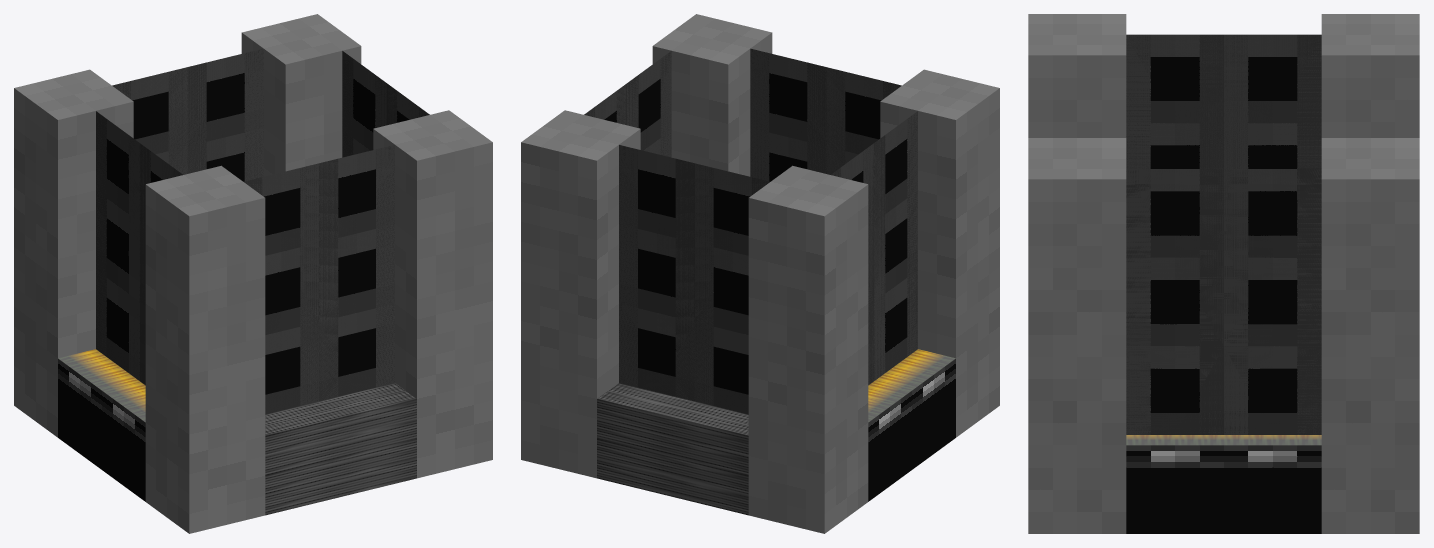
The model's file is conveyor_chute.obj.
3 views of the same model, side by side, from view 1: azimuth 30°, elevation 25°; view 2: azimuth 150°, elevation 25°; view 3: azimuth 270°, elevation 25° (orthographic). The views are drawn at different scales.
Visible parts, largest first — view 1: o4, o3, r3, o1, cvr2, r1, r4, o2, cvr, r2; view 2: o1, o2, r1, o4, cvr1, r3, r4, o3, cvr, r2; view 3: r2, o2, o3, r4, cvr, o1, o4.
Boxes of the visible parts, x1=… form: o4: x1=145, y1=165, x2=265, y2=533; o3: x1=373, y1=110, x2=492, y2=478; r3: x1=243, y1=145, x2=394, y2=414; o1: x1=14, y1=69, x2=133, y2=437; cvr2: x1=265, y1=383, x2=416, y2=515; r1: x1=112, y1=48, x2=263, y2=181; r4: x1=96, y1=111, x2=182, y2=385; o2: x1=241, y1=14, x2=361, y2=176; cvr: x1=58, y1=349, x2=145, y2=501; r2: x1=342, y1=51, x2=429, y2=157; o1: x1=748, y1=165, x2=868, y2=533; o2: x1=521, y1=110, x2=640, y2=478; r1: x1=619, y1=145, x2=770, y2=414; o4: x1=880, y1=69, x2=999, y2=437; cvr1: x1=597, y1=383, x2=748, y2=515; r3: x1=750, y1=48, x2=901, y2=181; r4: x1=831, y1=111, x2=917, y2=385; o3: x1=652, y1=14, x2=772, y2=176; cvr: x1=868, y1=349, x2=955, y2=501; r2: x1=584, y1=51, x2=671, y2=157; r2: x1=1126, y1=169, x2=1321, y2=434; o2: x1=1321, y1=138, x2=1419, y2=533; o3: x1=1028, y1=138, x2=1126, y2=533; r4: x1=1126, y1=34, x2=1321, y2=168; cvr: x1=1126, y1=435, x2=1321, y2=533; o1: x1=1321, y1=14, x2=1419, y2=137; o4: x1=1028, y1=14, x2=1126, y2=137.
Size of the model in its own units: 1 by 1 by 1.
